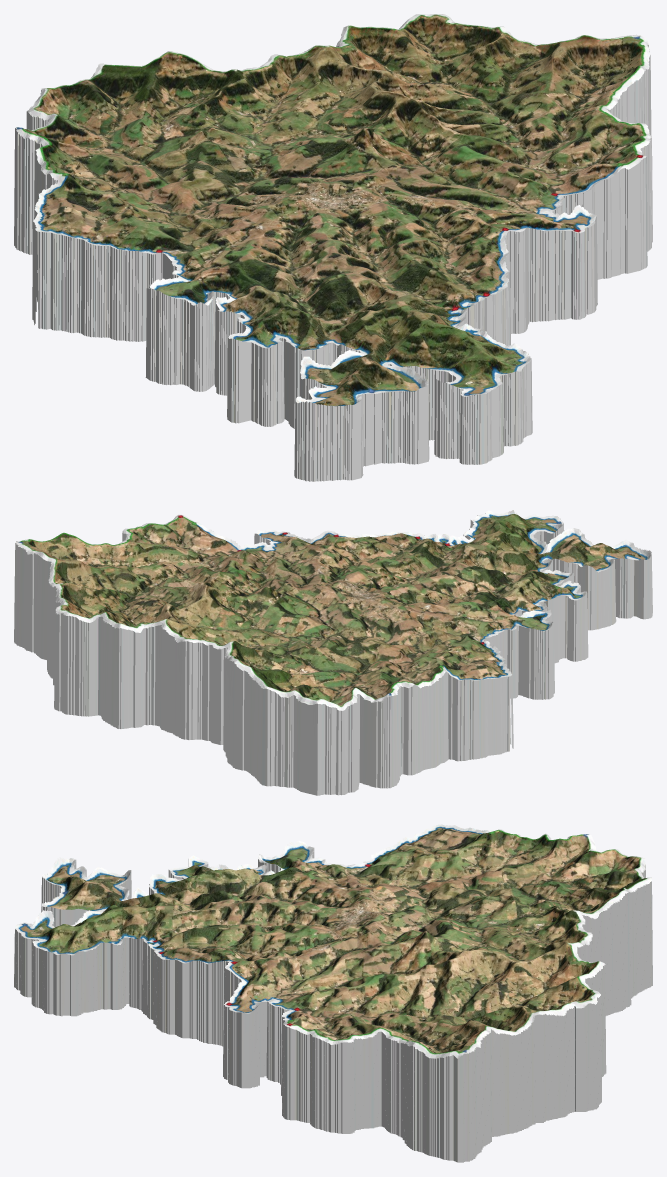
The picture shows the model from 3 angles, top to bottom: view 1: azimuth 30°, elevation 25°; view 2: azimuth 150°, elevation 25°; view 3: azimuth 270°, elevation 25°; orthographic projection. The views are drawn at different scales.
Bounding box in the file's own units: 1 × 0.2084 × 1.05.
Materials: 1 (1 with a texture image).
